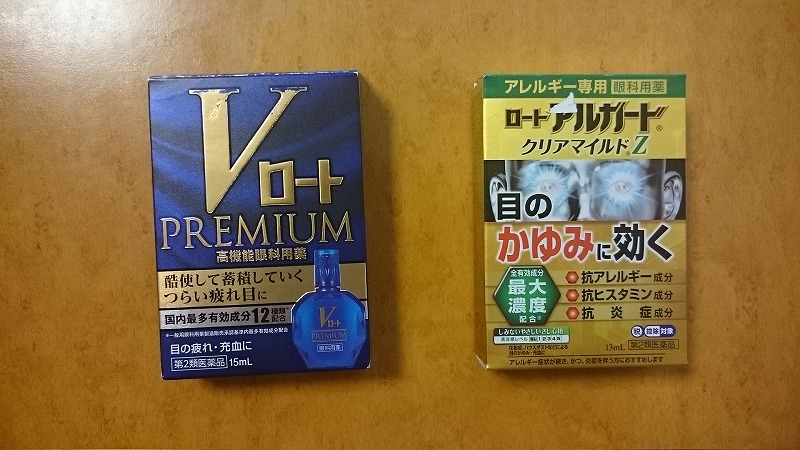C: (470, 75, 692, 368)
D: (143, 70, 383, 385)
